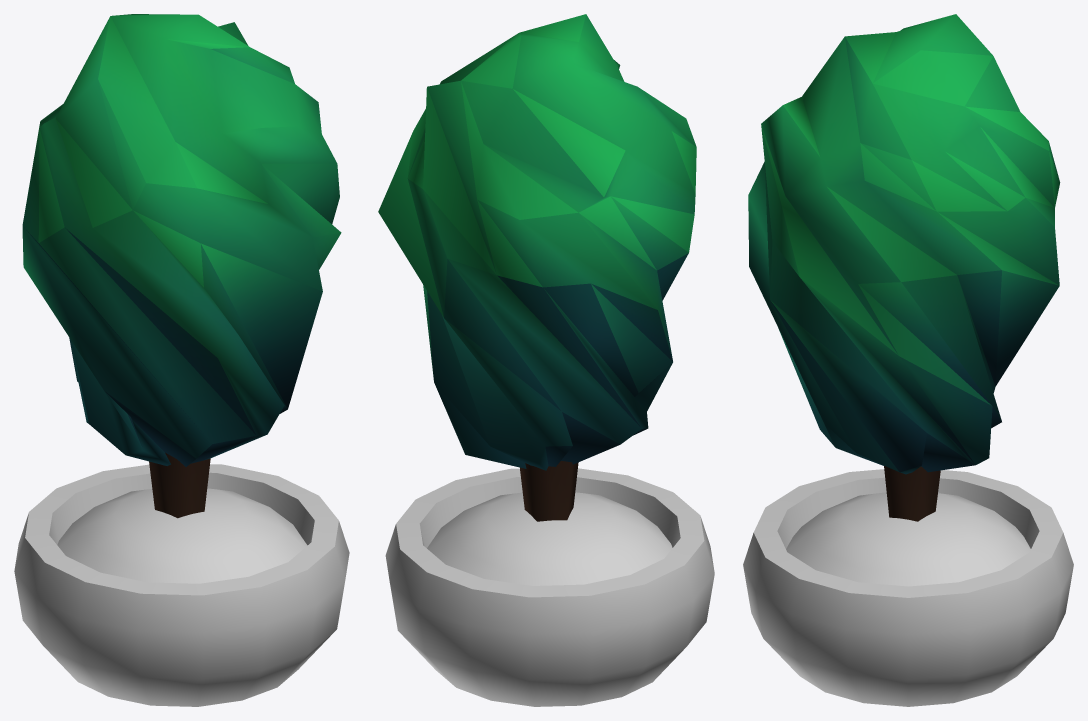
Rendered from Bush_2B.fbx.
The picture shows the model from 3 angles, left to right: view 1: azimuth 30°, elevation 25°; view 2: azimuth 150°, elevation 25°; view 3: azimuth 270°, elevation 25°; orthographic projection. The views are drawn at different scales.
Visible parts, largest first — view 1: Bush_2B; view 2: Bush_2B; view 3: Bush_2B.
Part boxes in pixels (x1=…): Bush_2B: x1=14, y1=14, x2=349, y2=706; Bush_2B: x1=378, y1=14, x2=714, y2=706; Bush_2B: x1=743, y1=14, x2=1073, y2=706.
Bounding box in the file's own units: 2.01 × 4.17 × 2.01.
